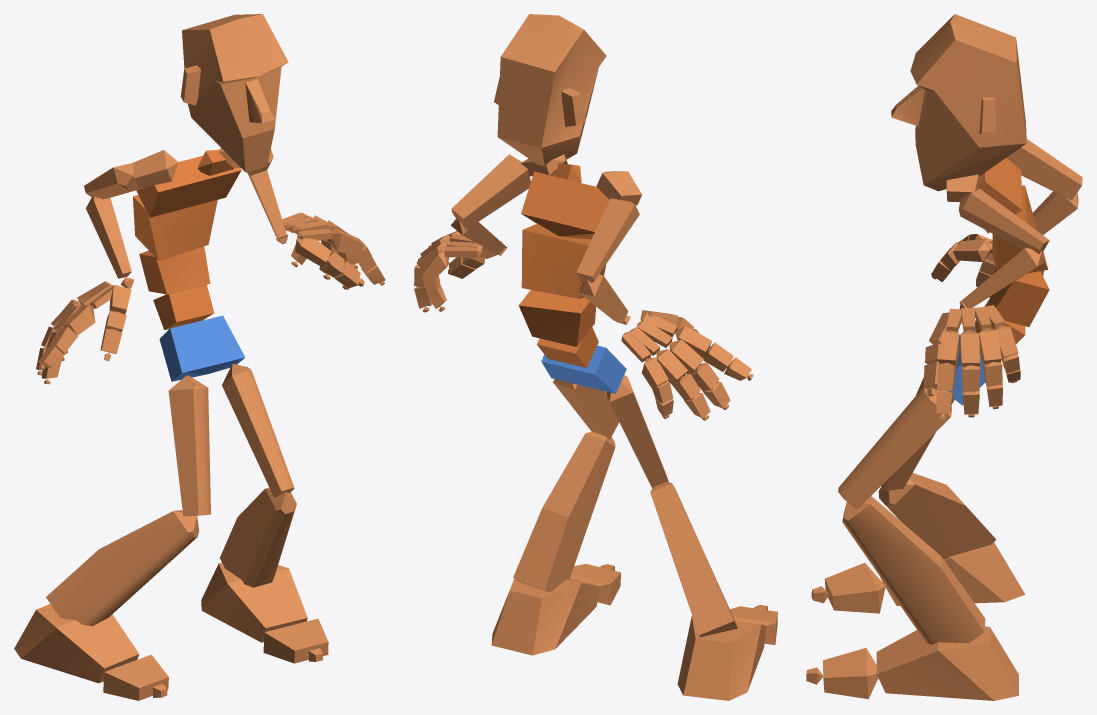
Rendered from personaje313.obj.
3 renders of one model, left to right at view 1: azimuth 30°, elevation 25°; view 2: azimuth 150°, elevation 25°; view 3: azimuth 270°, elevation 25°, orthographic. The views are drawn at different scales.
Visible parts, largest first — view 1: BOPED_Head, BOPED_R_leg, BOPED_R_foot, BOPED_R_foot01, BOPED_L_leg, BOPED_R_legup, BOPED_L_legup, Bone01, Bone04, Bone05, Bone03, BOPED_R_foot_toe04 (+10 smaller); view 2: BOPED_Head, BOPED_L_leg, BOPED_R_foot01, BOPED_R_foot, BOPED_R_leg, Bone05, Bone04, Bone03, BOPED_L_arm_upper, BOPED_R_legup, BOPED_R_arm_upper, Bone01 (+10 smaller); view 3: BOPED_Head, BOPED_L_leg, BOPED_R_foot01, BOPED_R_leg, BOPED_L_legup, BOPED_R_foot, BOPED_L_arm_upper, BOPED_R_foot_toe01, BOPED_R_foot_toe04, BOPED_R_arm_upper, Bone03, BOPED_L_arm_fore (+14 smaller).
Part boxes in pixels (bbox=[...]): BOPED_Head: bbox=[180, 14, 288, 173]; BOPED_R_leg: bbox=[46, 510, 199, 625]; BOPED_R_foot: bbox=[14, 604, 139, 683]; BOPED_R_foot01: bbox=[201, 562, 307, 642]; BOPED_L_leg: bbox=[220, 487, 296, 587]; BOPED_R_legup: bbox=[168, 375, 210, 516]; BOPED_L_legup: bbox=[222, 364, 294, 497]; Bone01: bbox=[159, 315, 245, 381]; Bone04: bbox=[133, 195, 217, 260]; Bone05: bbox=[136, 155, 241, 217]; Bone03: bbox=[139, 246, 210, 294]; BOPED_R_foot_toe04: bbox=[263, 618, 328, 663]; BOPED_Head: bbox=[494, 14, 606, 165]; BOPED_L_leg: bbox=[513, 431, 615, 592]; BOPED_R_foot01: bbox=[491, 579, 600, 655]; BOPED_R_foot: bbox=[677, 616, 766, 700]; BOPED_R_leg: bbox=[650, 482, 737, 637]; Bone05: bbox=[521, 171, 609, 239]; Bone04: bbox=[521, 224, 606, 298]; Bone03: bbox=[518, 290, 595, 346]; BOPED_L_arm_upper: bbox=[451, 154, 530, 229]; BOPED_R_legup: bbox=[606, 375, 668, 488]; BOPED_R_arm_upper: bbox=[576, 198, 639, 283]; Bone01: bbox=[541, 345, 626, 393]; BOPED_Head: bbox=[891, 14, 1026, 191]; BOPED_L_leg: bbox=[842, 496, 985, 644]; BOPED_R_foot01: bbox=[876, 626, 1018, 700]; BOPED_R_leg: bbox=[878, 473, 996, 559]; BOPED_L_legup: bbox=[838, 387, 951, 509]; BOPED_R_foot: bbox=[880, 542, 1025, 605]; BOPED_L_arm_upper: bbox=[958, 189, 1049, 253]; BOPED_R_foot_toe01: bbox=[824, 562, 885, 613]; BOPED_R_foot_toe04: bbox=[823, 648, 878, 699]; BOPED_R_arm_upper: bbox=[1006, 139, 1082, 200]; Bone03: bbox=[989, 268, 1049, 326]; BOPED_L_arm_fore: bbox=[959, 247, 1043, 307].
Size of the model in its own units: 100 by 168 by 64.15.
